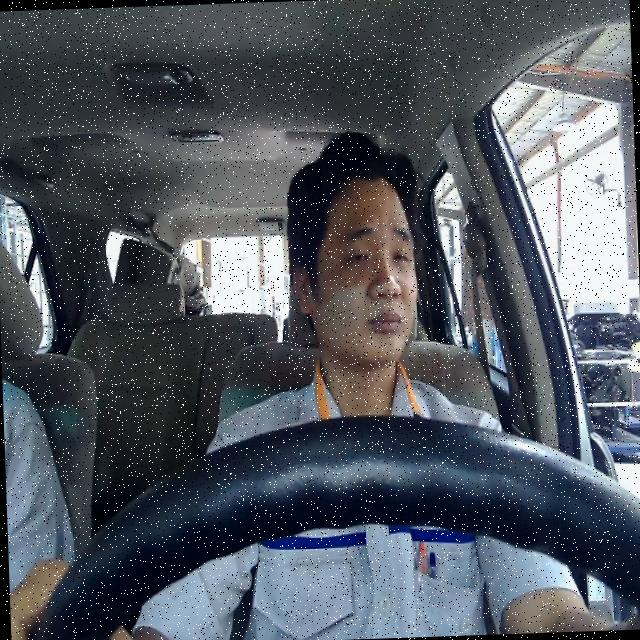seeing_right: (286, 174, 419, 369)
